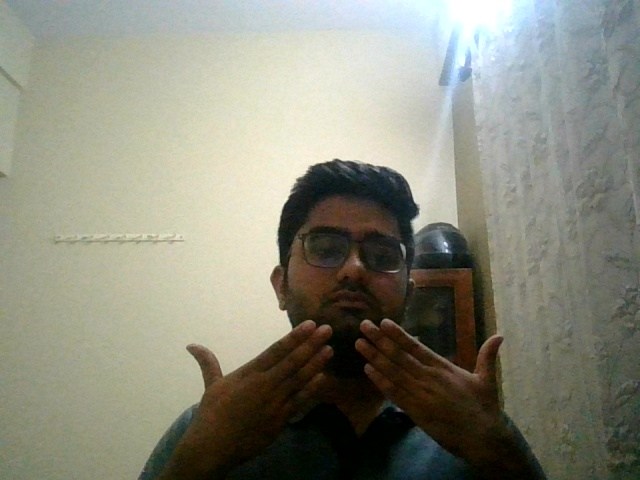Thank You: (168, 307, 531, 480)
